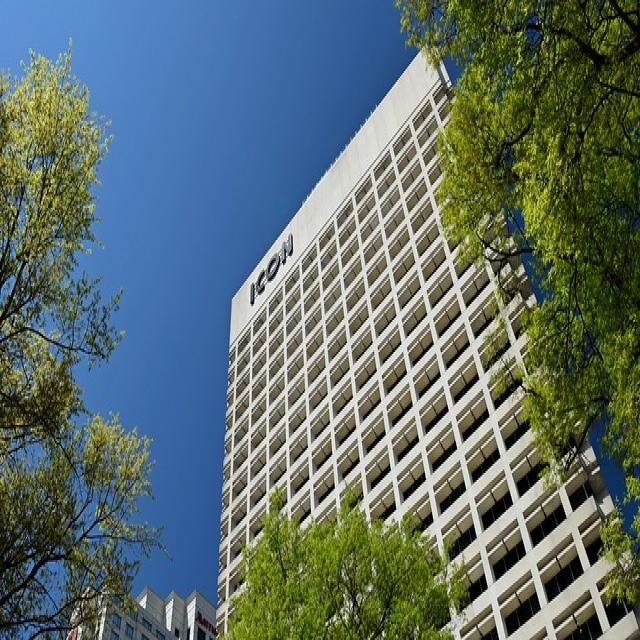Normal_building: (204, 26, 640, 640)
